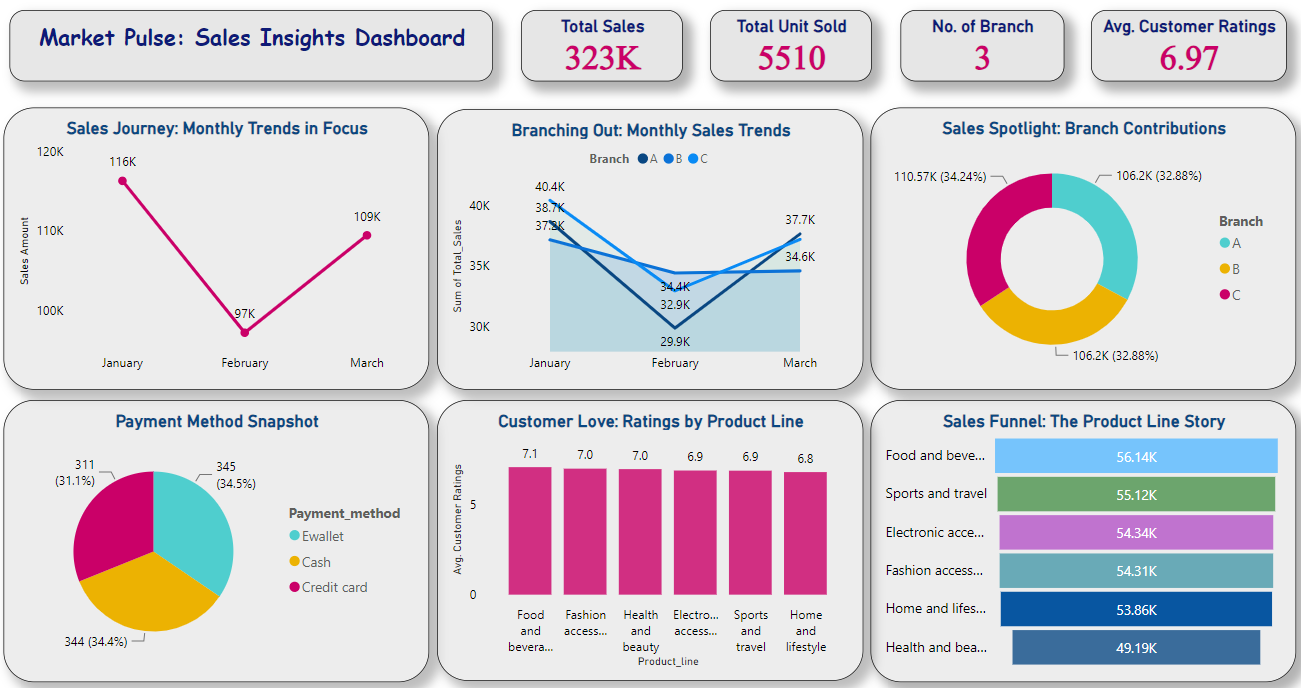

The dashboard page shown, as its layout file describes it:
{"tool":"powerbi","page":{"name":"Supermarket Sales Analysis","canvas":[1280,720],"ordinal":0},"visuals":[{"type":"card","title":"Total Sales","fields":{"Values":["Sum(Supermarket Company Sales.Total_price)"]},"box":[511.5,35.2,159,70.2],"z":0,"group":"g1"},{"type":"card","title":"Total Unit Sold","fields":{"Values":["Sum(Supermarket Company Sales.Quantity)"]},"box":[697.4,35.2,159,70.2],"z":1000,"group":"g1"},{"type":"card","title":"No. of Branch","fields":{"Values":["Count(Supermarket Company Sales.Branch)"]},"box":[883.2,35.3,160.4,70.2],"z":2000,"group":"g1"},{"type":"card","title":"Avg. Customer Ratings","fields":{"Values":["Avg(Supermarket Company Sales.Rating)"]},"box":[1070.5,35.3,191.9,70.2],"z":3000,"group":"g1"},{"type":"lineChart","title":"Sales Journey: Monthly Trends in Focus","fields":{"Category":["Supermarket Company Sales.Month Name"],"Y":["Sum(Supermarket Company Sales.Total_Sales)"]},"box":[4.8,131.3,417.6,276.5],"z":4000,"group":"g1"},{"type":"pieChart","title":"Payment Method Snapshot","fields":{"Category":["Supermarket Company Sales.Payment_method"],"Y":["Count(Supermarket Company Sales.Invoice_ID)"]},"box":[4.8,417.6,417.6,276.5],"z":5000,"group":"g1"},{"type":"donutChart","title":"Sales Spotlight: Branch Contributions","fields":{"Y":["Sum(Supermarket Company Sales.Total_Sales)"],"Category":["Supermarket Company Sales.Branch"]},"box":[854.8,131.3,417.6,276.5],"z":6000,"group":"g1"},{"type":"lineChart","title":"Branching Out: Monthly Sales Trends","fields":{"Y":["Sum(Supermarket Company Sales.Total_Sales)"],"Category":["Supermarket Company Sales.Month Name"],"Series":["Supermarket Company Sales.Branch"]},"box":[429.5,131.9,418.3,275.2],"z":7000,"group":"g1"},{"type":"funnel","title":"Sales Funnel: The Product Line Story","fields":{"Category":["Supermarket Company Sales.Product_line"],"Y":["Sum(Supermarket Company Sales.Total_Sales)"]},"box":[854.8,417.6,417.6,276.5],"z":8000,"group":"g1"},{"type":"columnChart","title":"Customer Love: Ratings by Product Line","fields":{"Y":["Avg(Supermarket Company Sales.Rating)"],"Category":["Supermarket Company Sales.Product_line"]},"box":[429.6,418.1,418.3,275.2],"z":9000,"group":"g1"},{"type":"textbox","box":[10.5,35.3,474.1,70],"z":10000,"group":"g1"},{"type":"group","id":"g1","title":"Group 1","box":[4.8,35.2,1267.7,658.9],"z":10001}]}

Visuals, with their boxes on the page's 1280x720 design canvas (x1, y1, x2, y2). These are canvas units, not pixel positions in the 1301x688 screenshot, which may show the page scaled, cropped or inside an application window:
"Total Sales" card: detection(512, 35, 670, 105)
"Total Unit Sold" card: detection(697, 35, 856, 105)
"No. of Branch" card: detection(883, 35, 1044, 106)
"Avg. Customer Ratings" card: detection(1070, 35, 1262, 106)
"Sales Journey: Monthly Trends in Focus" lineChart: detection(5, 131, 422, 408)
"Payment Method Snapshot" pieChart: detection(5, 418, 422, 694)
"Sales Spotlight: Branch Contributions" donutChart: detection(855, 131, 1272, 408)
"Branching Out: Monthly Sales Trends" lineChart: detection(430, 132, 848, 407)
"Sales Funnel: The Product Line Story" funnel: detection(855, 418, 1272, 694)
"Customer Love: Ratings by Product Line" columnChart: detection(430, 418, 848, 693)
textbox: detection(10, 35, 485, 105)
"Group 1" group: detection(5, 35, 1272, 694)
